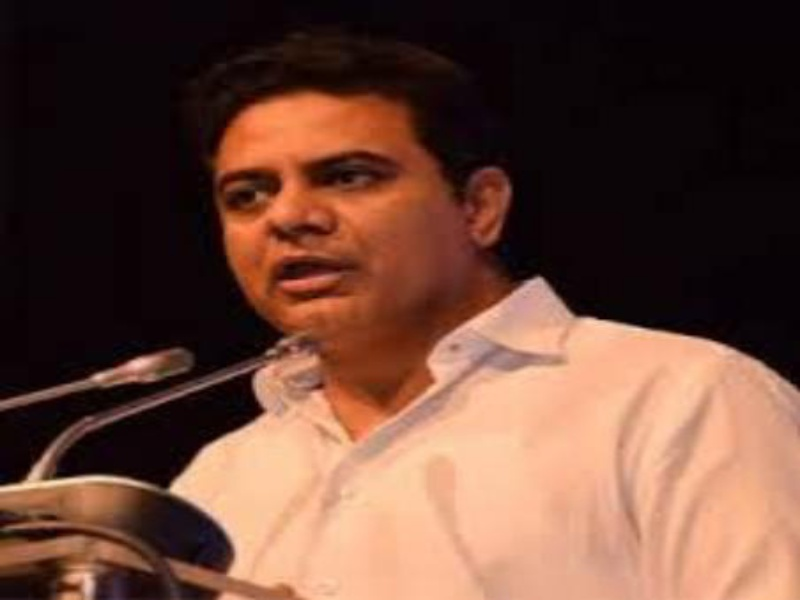TsisyArotava: (156, 30, 476, 384)
